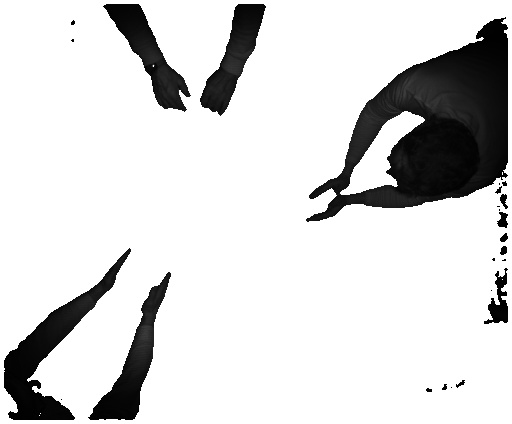hand: (145, 69, 191, 111), (200, 74, 241, 118)
spine: (94, 248, 135, 295), (309, 161, 351, 203), (143, 272, 175, 323), (307, 196, 357, 223)
